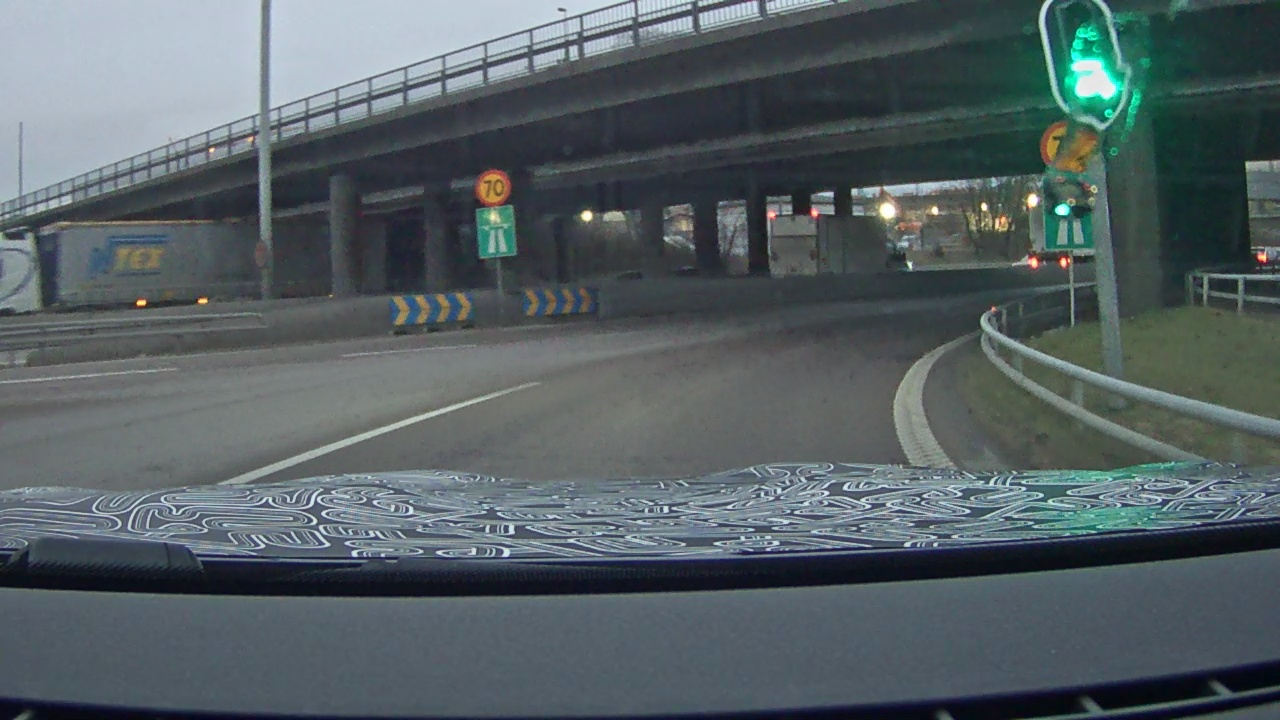Motorway_Begin: (477, 205, 515, 259)
